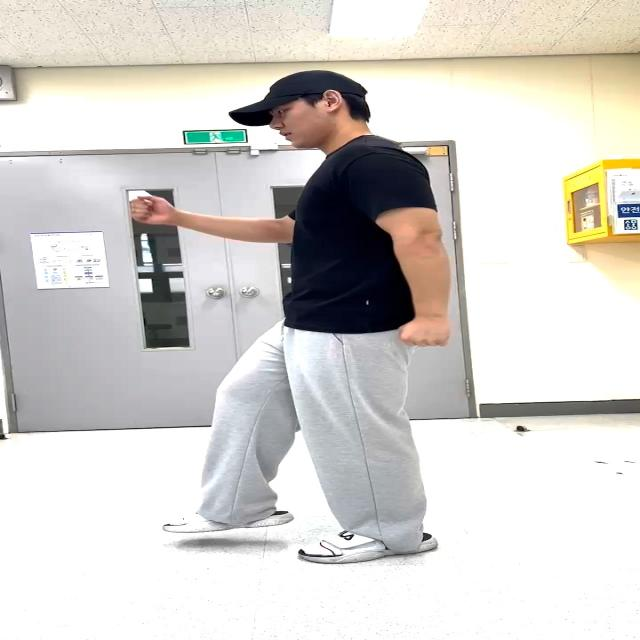leg: (151, 338, 293, 536)
